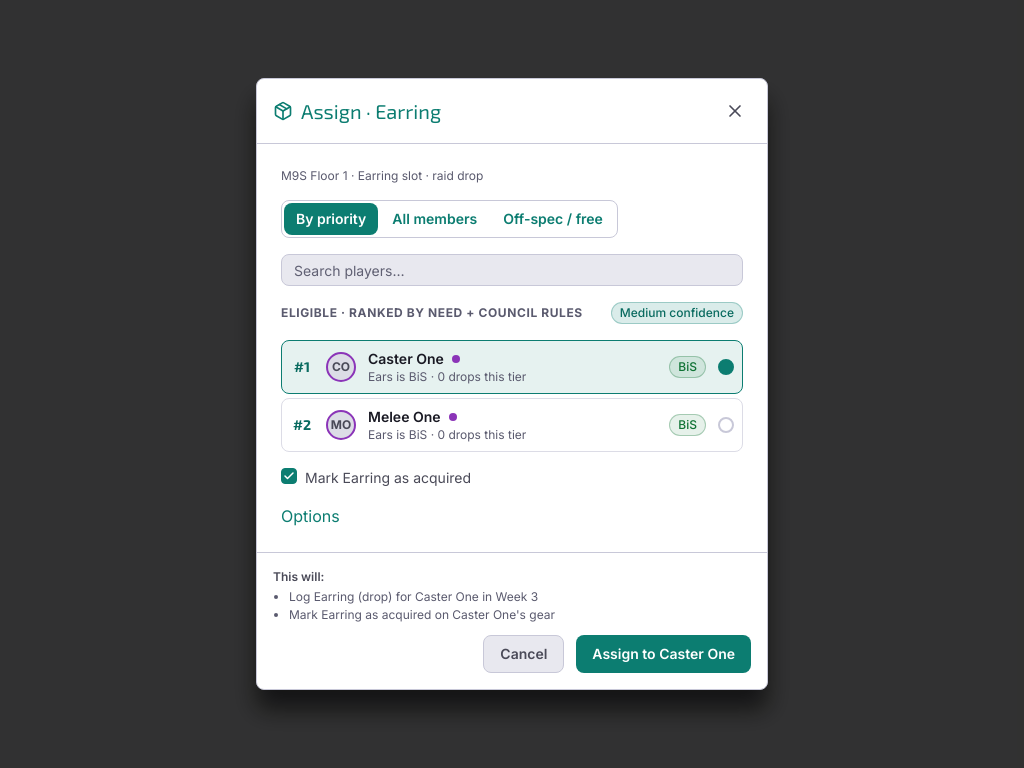
Test case: RecipientPicker (assign mode) › disables submit when the search filter hides the pinned selection, and re-enables when cleared
Expected: the button "Assign to Caster One" is enabled, [576,635,751,673]
// Search to a term that excludes the pinned selection (Caster One).
Type "Melee" into the field with placeholder "Search players…" at {"x": 512, "y": 270}, box [281,254,743,286]
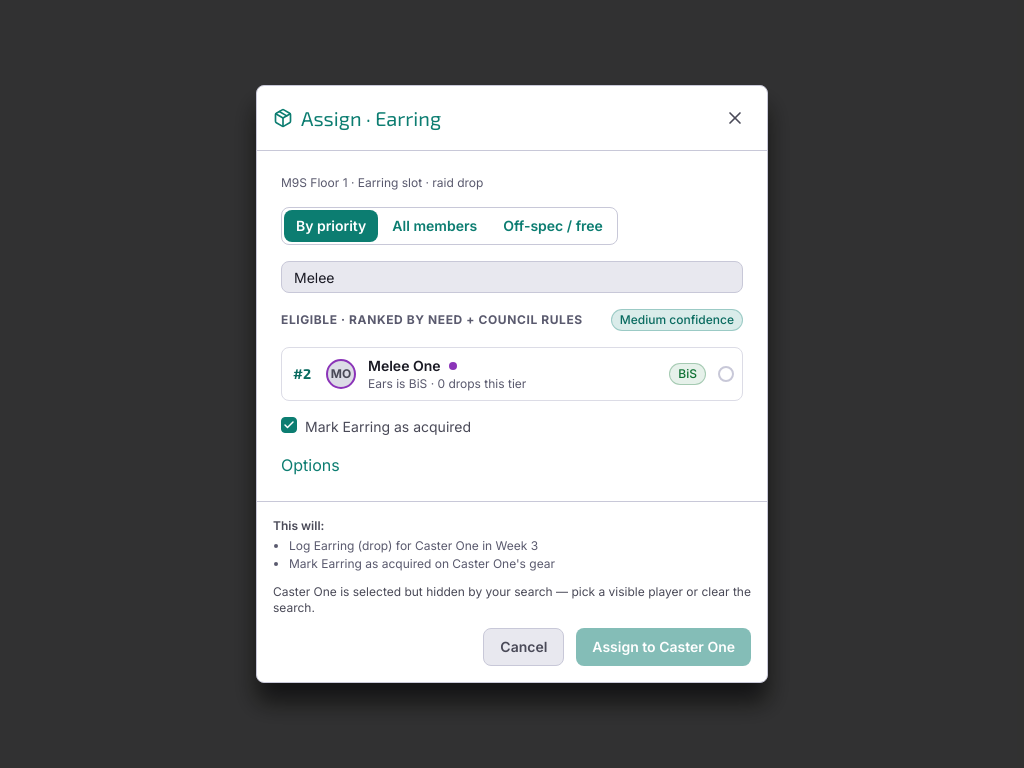
Expected: the button "Assign to Caster One" is disabled, [576,628,751,666]
// Clearing the search restores visibility and re-enables submit.
Clear the field with placeholder "Search players…" at {"x": 512, "y": 277}, box [281,261,743,293]
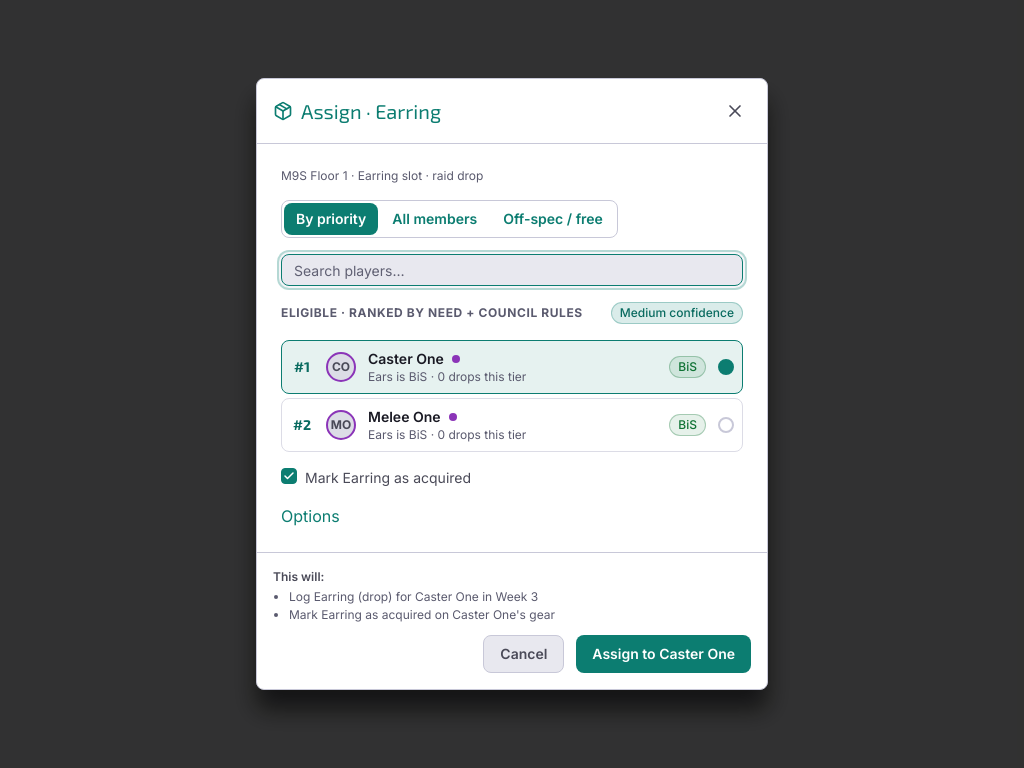
Expected: the button "Assign to Caster One" is enabled, [576,635,751,673]
